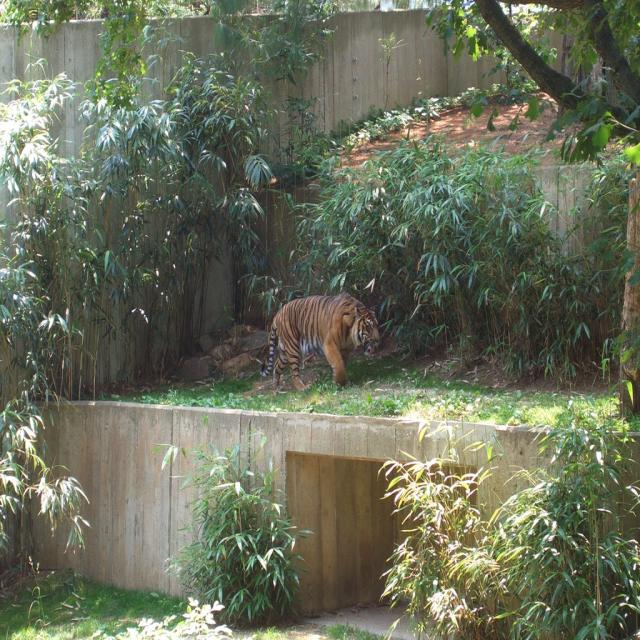Tiger: (260, 292, 382, 390)
